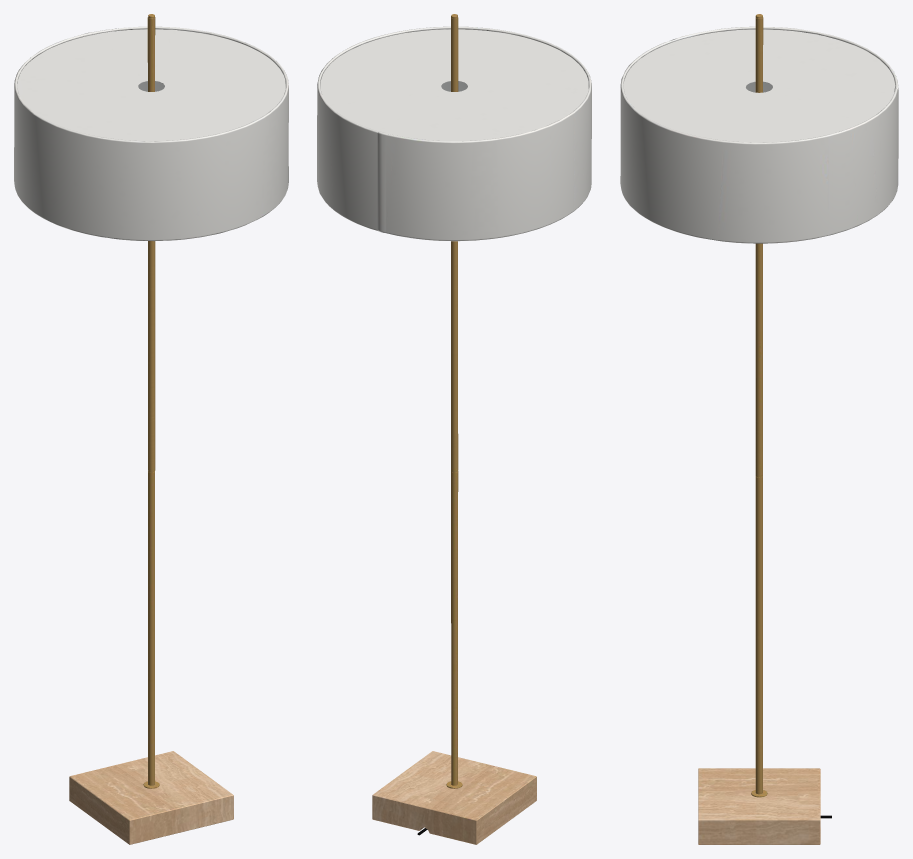
File: stockholm_2025_lampa_podogowa_50585914.glb
3 renders of one model, left to right at view 1: azimuth 30°, elevation 25°; view 2: azimuth 150°, elevation 25°; view 3: azimuth 270°, elevation 25°, orthographic.
Visible parts, largest first — view 1: stockholm_2025_lampa_podogowa_50585914; view 2: stockholm_2025_lampa_podogowa_50585914; view 3: stockholm_2025_lampa_podogowa_50585914.
Boxes of the visible parts, x1=… form: stockholm_2025_lampa_podogowa_50585914: x1=14, y1=14, x2=288, y2=844; stockholm_2025_lampa_podogowa_50585914: x1=317, y1=14, x2=591, y2=844; stockholm_2025_lampa_podogowa_50585914: x1=620, y1=14, x2=898, y2=844.
Bounding box in the file's own units: 0.4997 × 1.6 × 0.5003.
1 material, 1 textured.
